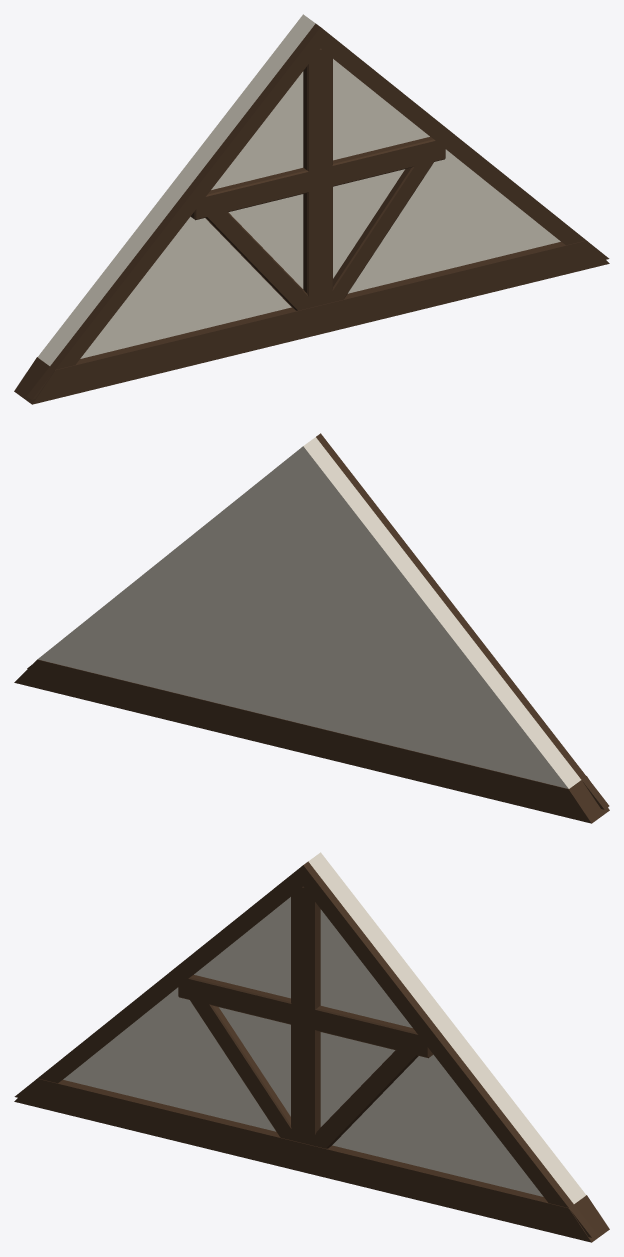
Rendered from mdvl_village_wall_gable_01.glb.
3 renders of one model, top to bottom at view 1: azimuth 30°, elevation 25°; view 2: azimuth 150°, elevation 25°; view 3: azimuth 330°, elevation 25°, orthographic.
Visible parts, largest first — view 1: mdvl_village_wall_gable_01; view 2: mdvl_village_wall_gable_01; view 3: mdvl_village_wall_gable_01.
Boxes of the visible parts, bbox=[...] form: mdvl_village_wall_gable_01: bbox=[14, 14, 609, 404]; mdvl_village_wall_gable_01: bbox=[14, 433, 609, 823]; mdvl_village_wall_gable_01: bbox=[14, 852, 609, 1242].
Size of the model in its own units: 4 by 2.03 by 0.218.
1 material, 1 textured.
